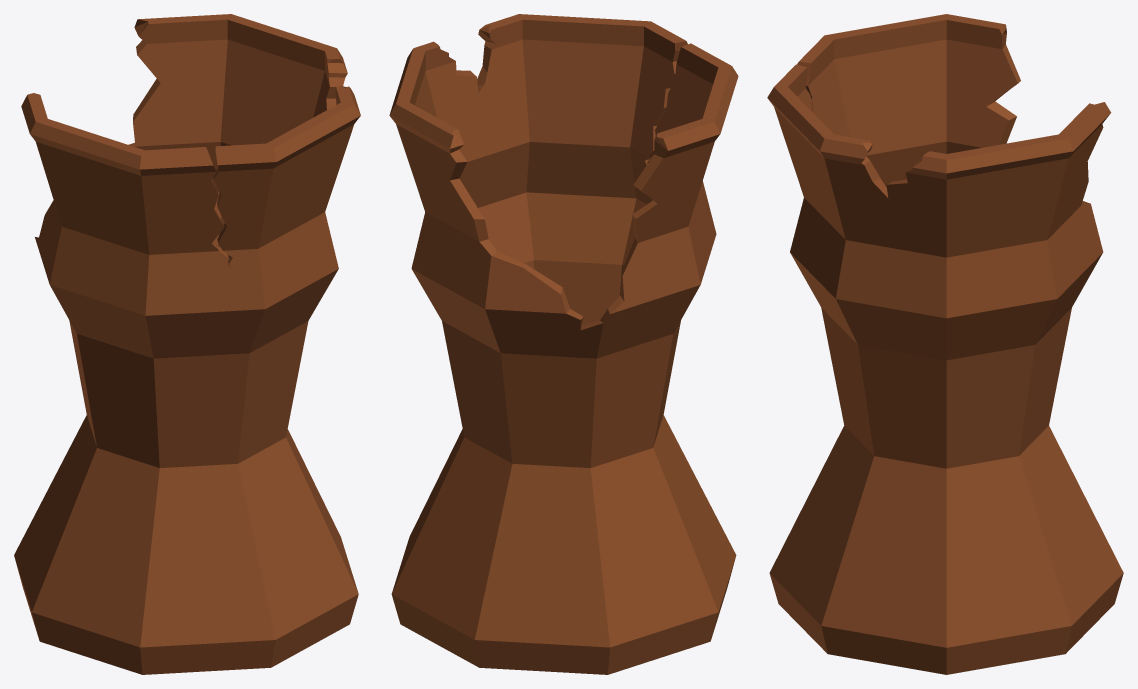
Rendered from Collin_BrokenVase_003_Body.fbx.
3 views of the same model, side by side, from view 1: azimuth 30°, elevation 25°; view 2: azimuth 150°, elevation 25°; view 3: azimuth 270°, elevation 25° (orthographic).
Parts seen in each view (by area): view 1: Broken_Vase_003; view 2: Broken_Vase_003; view 3: Broken_Vase_003.
Part boxes in pixels (<box>): Broken_Vase_003: <box>14,14,360,674</box>; Broken_Vase_003: <box>389,14,738,674</box>; Broken_Vase_003: <box>767,14,1123,674</box>.
Size of the model in its own units: 48.98 by 77.86 by 48.67.
1 material, 1 textured.
